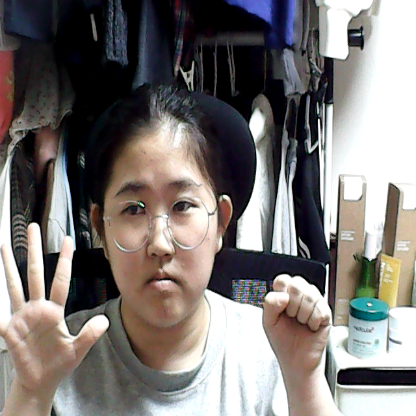Finger_0: (248, 256, 338, 377)
Finger_4: (1, 216, 107, 400)
